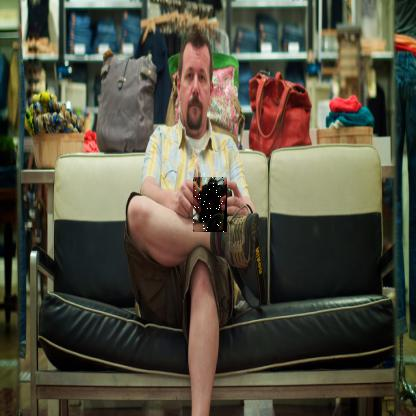Camera: (194, 178, 229, 234)
